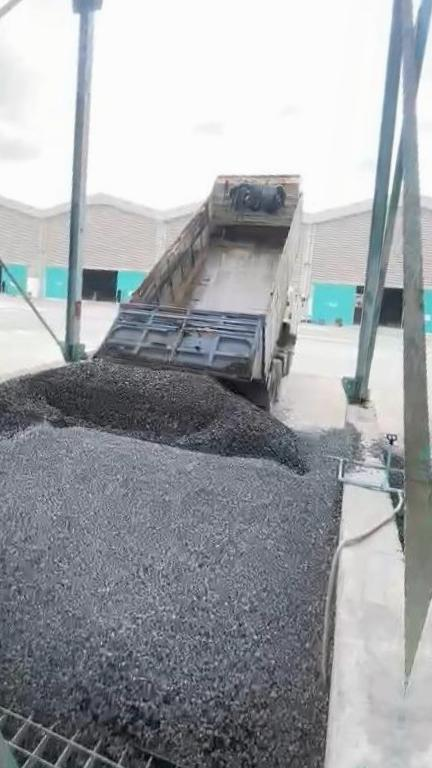gravel: (0, 421, 366, 768), (0, 357, 310, 476)
